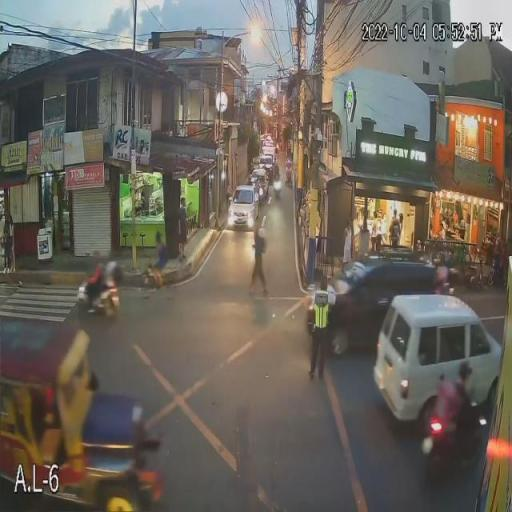motorcycle: (427, 408, 486, 484), (72, 280, 129, 322)
rider: (451, 362, 475, 435)
